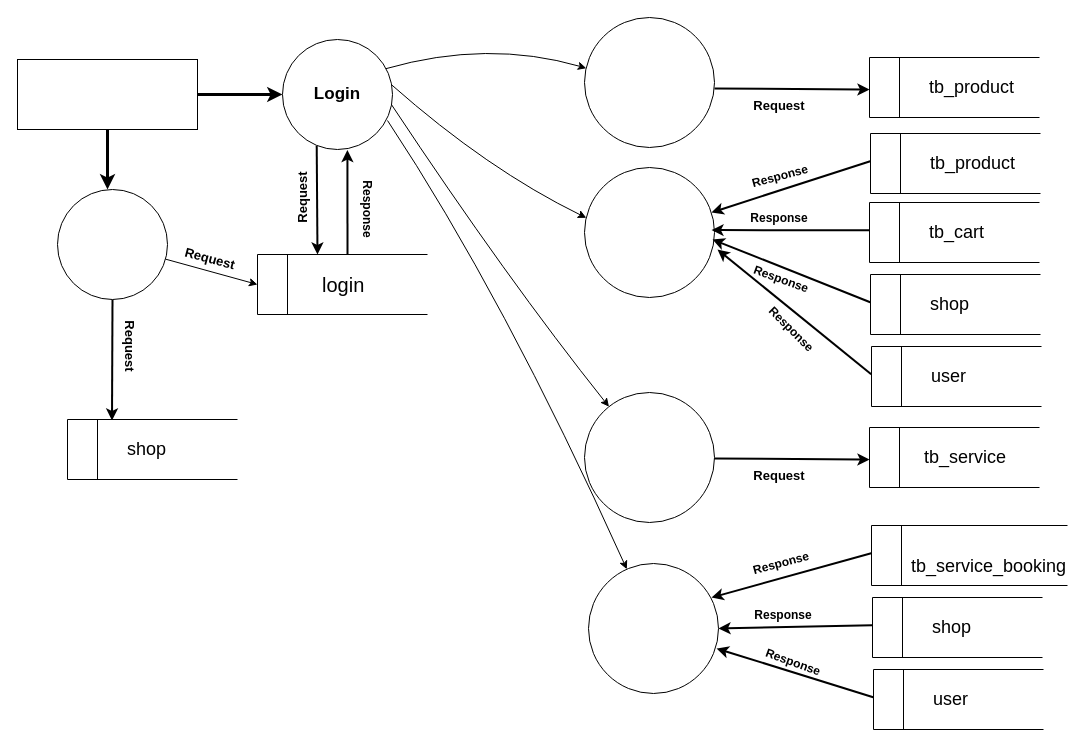
The diagram is 1085 pixels wide and 747 high, and some of its shapes have lost their labels. The shapes that lost their labels are listed below. From the top down, each one's centre as x and y in pixels, then its label:
the point at 107,94: CENTER
the point at 649,82: Add Product
the point at 112,244: Registration
the point at 649,232: Product Bookings
the point at 649,457: Add Services
the point at 653,628: Service Bookings
